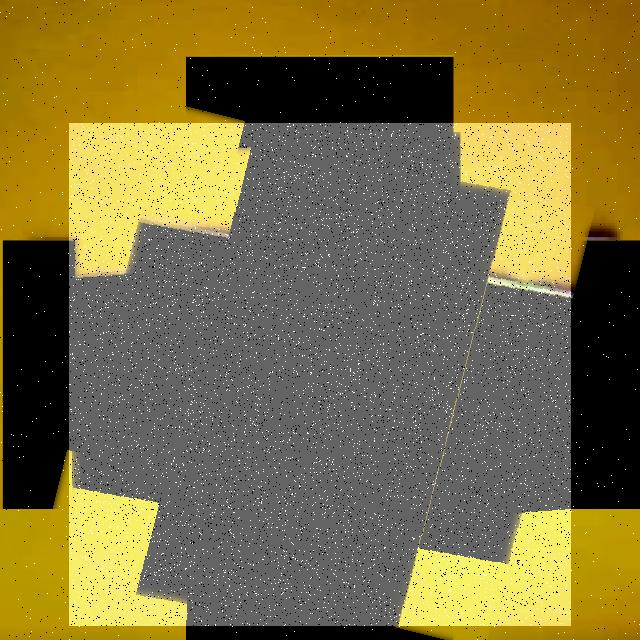lima puluh ribu rupiah: (69, 123, 571, 626)
